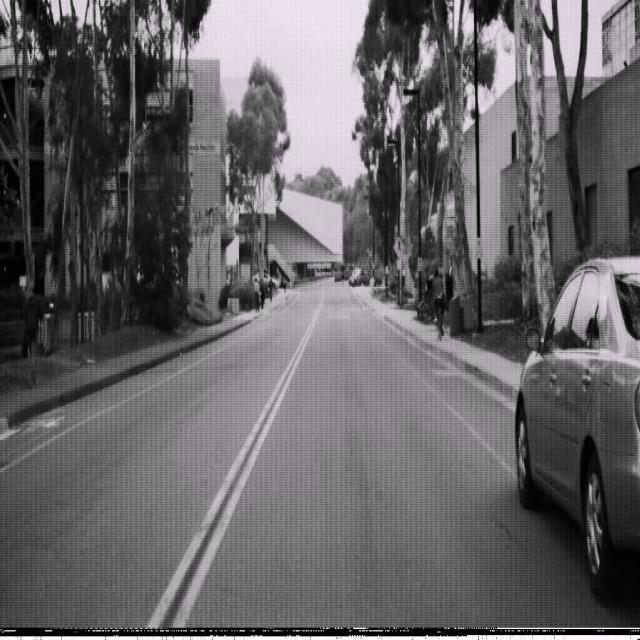pedestrianCrossing: (393, 234, 405, 259)
